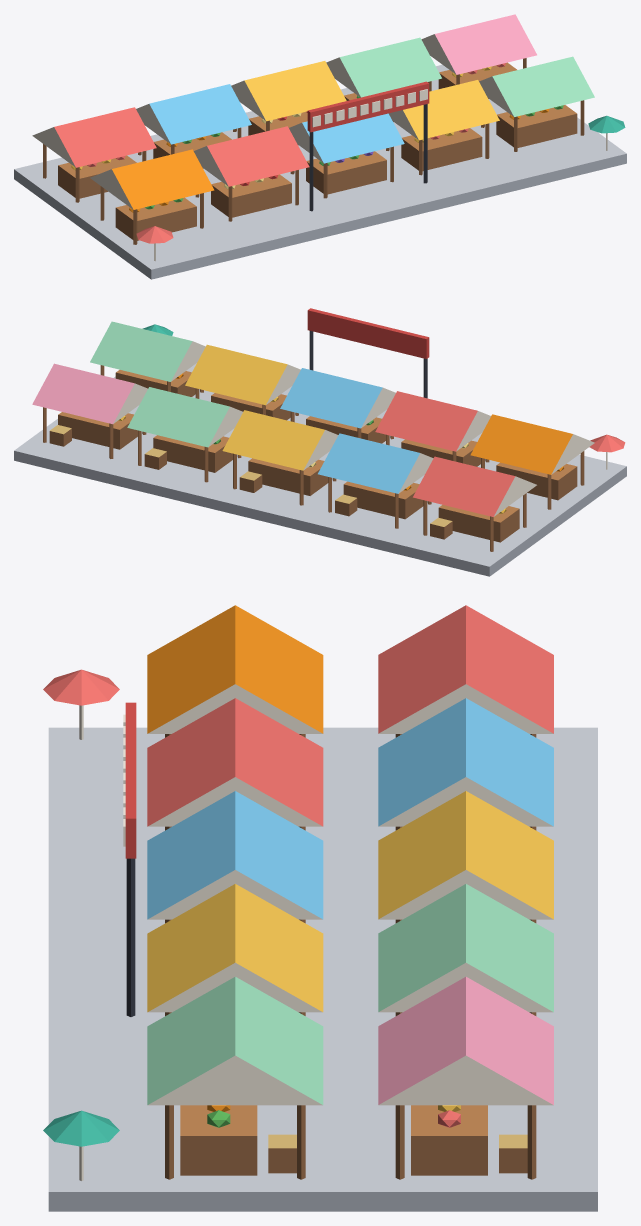
Rendered from shop_market.glb.
3 views of the same model, one above another, from view 1: azimuth 30°, elevation 25°; view 2: azimuth 150°, elevation 25°; view 3: azimuth 270°, elevation 25° (orthographic). The views are drawn at different scales.
Parts seen in each view (by area): view 1: shop_market; view 2: shop_market; view 3: shop_market.
Boxes of the visible parts, x1,y1,x2,y2 form: shop_market: [14, 14, 626, 279]; shop_market: [14, 308, 626, 576]; shop_market: [43, 605, 597, 1211].
Bounding box in the file's own units: 2.04 × 0.44 × 1.01.
